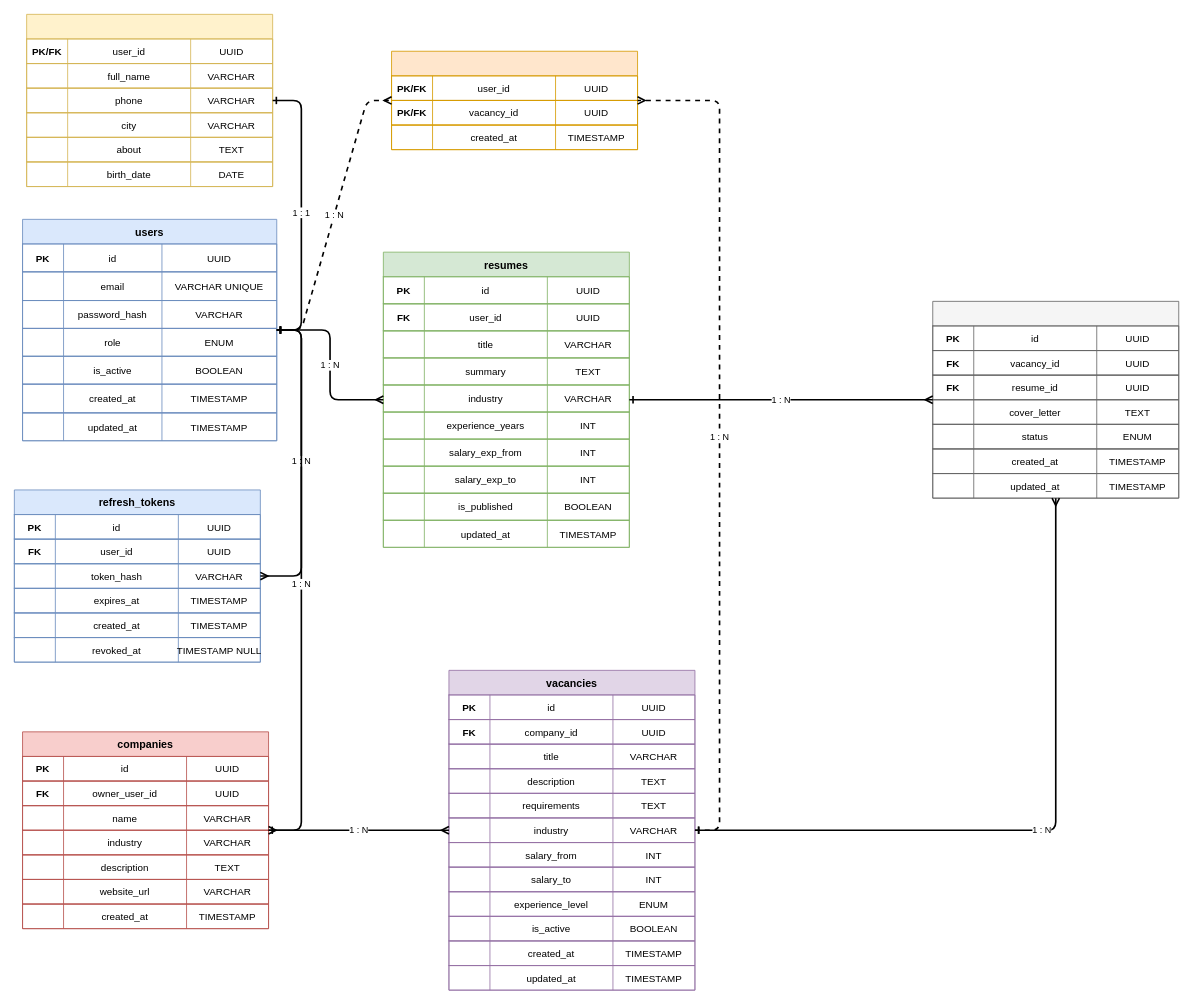
Image size: 1193x1005. Some labels were removed from this diagram. The shapes that lost their labels are listed below. From the top down, each one's box as (x1, y1, x2, y2) in pixels, then its label:
(26, 14, 273, 187): user_profiles
(391, 50, 638, 150): favorite_vacancies
(932, 301, 1179, 498): applications
